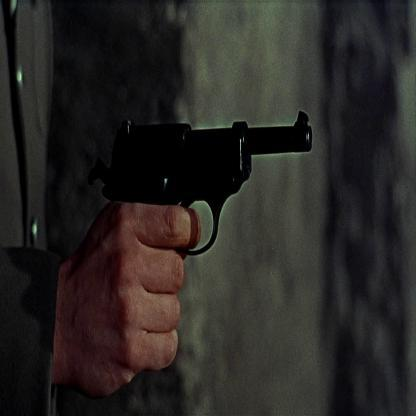gun: (106, 93, 314, 261)
